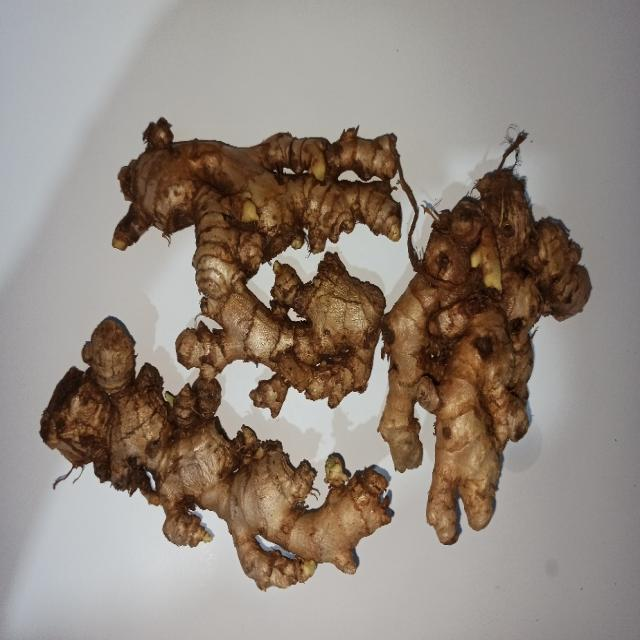ginger: (49, 347, 392, 586), (113, 122, 398, 399), (400, 172, 587, 545)
